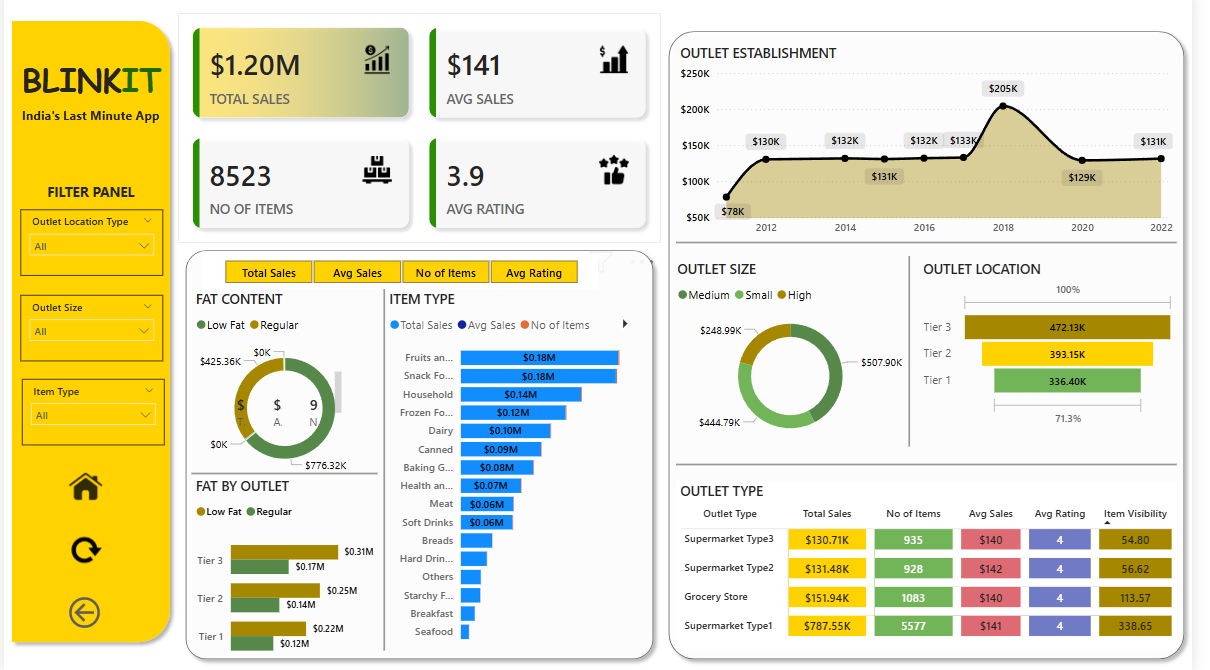

This screenshot's page, from the dashboard's own definition file:
{"tool":"powerbi","page":{"name":"Page 1","canvas":[1400,800],"ordinal":0},"visuals":[{"type":"shape","box":[0,24.8,204.6,750.3],"z":0},{"type":"textbox","box":[16.5,70.3,204.6,88.9],"z":1000},{"type":"textbox","box":[16.5,128.2,204.6,62],"z":2000},{"type":"cardVisual","fields":{"Data":["BlinkIT Grocery Data.Total Sales","BlinkIT Grocery Data.Avg Sales","BlinkIT Grocery Data.No of Items","BlinkIT Grocery Data.Avg Rating"]},"box":[205,24.7,569.1,270.4],"z":3000},{"type":"shape","box":[205,295.1,569.1,500.2],"z":4000},{"type":"donutChart","title":"FAT CONTENT","fields":{"Y":["BlinkIT Grocery Data.Total Sales","BlinkIT Grocery Data.Avg Sales","BlinkIT Grocery Data.No of Items","BlinkIT Grocery Data.Avg Rating"],"Category":["BlinkIT Grocery Data.Item Fat Content"]},"box":[220.9,349.9,219.2,229.8],"z":5000},{"type":"slicer","fields":{"Values":["Metrics.Metrics"]},"box":[235.1,309.3,464.8,40.6],"z":6000},{"type":"cardVisual","fields":{"Data":["BlinkIT Grocery Data.Total Sales","BlinkIT Grocery Data.Avg Sales","BlinkIT Grocery Data.No of Items","BlinkIT Grocery Data.Avg Rating"]},"box":[256.3,441.8,146.7,104.3],"z":7000},{"type":"clusteredBarChart","title":"FAT BY OUTLET","fields":{"Y":["BlinkIT Grocery Data.Total Sales"],"Category":["BlinkIT Grocery Data.Outlet Location Type"],"Series":["BlinkIT Grocery Data.Item Fat Content"]},"box":[220.9,570.9,219.2,229.8],"z":8000},{"type":"shape","box":[220.9,546.1,219.2,42.4],"z":9000},{"type":"shape","box":[413.6,349.9,68.9,425.9],"z":10000},{"type":"barChart","title":"ITEM TYPE","fields":{"Y":["BlinkIT Grocery Data.Total Sales","BlinkIT Grocery Data.Avg Sales","BlinkIT Grocery Data.No of Items","BlinkIT Grocery Data.Avg Rating"],"Category":["BlinkIT Grocery Data.Item Type"]},"box":[448.9,349.9,302.2,425.9],"z":11000},{"type":"shape","box":[774.1,37.1,625.6,758.2],"z":12000},{"type":"lineChart","title":"OUTLET ESTABLISHMENT","fields":{"Category":["BlinkIT Grocery Data.Outlet Establishment Year"],"Y":["BlinkIT Grocery Data.Total Sales"]},"box":[791.8,60.1,590.3,235.1],"z":13000},{"type":"shape","box":[791.8,273.9,590.3,42.4],"z":14000},{"type":"donutChart","title":"OUTLET SIZE","fields":{"Category":["BlinkIT Grocery Data.Outlet Size"],"Y":["BlinkIT Grocery Data.Total Sales"]},"box":[788.2,314.6,275.7,224.5],"z":15000},{"type":"shape","box":[1032.1,311.1,68.9,224.5],"z":16000},{"type":"funnel","title":"OUTLET LOCATION","fields":{"Category":["BlinkIT Grocery Data.Outlet Location Type"],"Y":["Sum(BlinkIT Grocery Data.Sales)"]},"box":[1078.1,314.6,305.8,201.5],"z":17000},{"type":"shape","box":[791.8,535.5,590.3,42.4],"z":18000},{"type":"pivotTable","title":"OUTLET TYPE","fields":{"Rows":["BlinkIT Grocery Data.Outlet Type"],"Values":["BlinkIT Grocery Data.Total Sales","BlinkIT Grocery Data.No of Items","BlinkIT Grocery Data.Avg Sales","BlinkIT Grocery Data.Avg Rating","Sum(BlinkIT Grocery Data.Item Visibility)"]},"box":[791.8,576.2,590.3,199.7],"z":19000},{"type":"slicer","fields":{"Values":["BlinkIT Grocery Data.Outlet Location Type"]},"box":[19.4,256.3,167.9,77.8],"z":20000},{"type":"slicer","fields":{"Values":["BlinkIT Grocery Data.Outlet Size"]},"box":[19.4,357,167.9,77.8],"z":21000},{"type":"slicer","fields":{"Values":["BlinkIT Grocery Data.Item Type"]},"box":[21.2,456,167.9,77.8],"z":22000},{"type":"textbox","box":[46,219.2,141.4,54.8],"z":23000},{"type":"actionButton","title":"Back","box":[61.9,698.1,74.2,65.4],"z":24000},{"type":"actionButton","title":"Home","box":[70.7,554.9,67.2,51.3],"z":25000},{"type":"actionButton","title":"Home","box":[46,606.2,129,102.5],"z":26000}]}

Visuals, with their boxes on the page's 1400x800 design canvas (x1, y1, x2, y2). These are canvas units, not pixel positions in the 1210x670 screenshot, which may show the page scaled, cropped or inside an application window:
shape: bbox(0, 25, 205, 775)
textbox: bbox(16, 70, 221, 159)
textbox: bbox(16, 128, 221, 190)
cardVisual - BlinkIT Grocery Data.Total Sales x BlinkIT Grocery Data.Avg Sales: bbox(205, 25, 774, 295)
shape: bbox(205, 295, 774, 795)
"FAT CONTENT" donutChart: bbox(221, 350, 440, 580)
slicer - Metrics.Metrics: bbox(235, 309, 700, 350)
cardVisual - BlinkIT Grocery Data.Total Sales x BlinkIT Grocery Data.Avg Sales: bbox(256, 442, 403, 546)
"FAT BY OUTLET" clusteredBarChart: bbox(221, 571, 440, 801)
shape: bbox(221, 546, 440, 588)
shape: bbox(414, 350, 482, 776)
"ITEM TYPE" barChart: bbox(449, 350, 751, 776)
shape: bbox(774, 37, 1400, 795)
"OUTLET ESTABLISHMENT" lineChart: bbox(792, 60, 1382, 295)
shape: bbox(792, 274, 1382, 316)
"OUTLET SIZE" donutChart: bbox(788, 315, 1064, 539)
shape: bbox(1032, 311, 1101, 536)
"OUTLET LOCATION" funnel: bbox(1078, 315, 1384, 516)
shape: bbox(792, 536, 1382, 578)
"OUTLET TYPE" pivotTable: bbox(792, 576, 1382, 776)
slicer - BlinkIT Grocery Data.Outlet Location Type: bbox(19, 256, 187, 334)
slicer - BlinkIT Grocery Data.Outlet Size: bbox(19, 357, 187, 435)
slicer - BlinkIT Grocery Data.Item Type: bbox(21, 456, 189, 534)
textbox: bbox(46, 219, 187, 274)
"Back" actionButton: bbox(62, 698, 136, 764)
"Home" actionButton: bbox(71, 555, 138, 606)
"Home" actionButton: bbox(46, 606, 175, 709)
